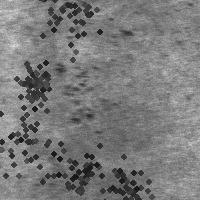rolled-in_scale: (0, 82, 77, 196), (7, 0, 123, 64), (37, 135, 115, 200), (57, 52, 112, 138), (96, 156, 160, 200), (9, 58, 59, 108)
